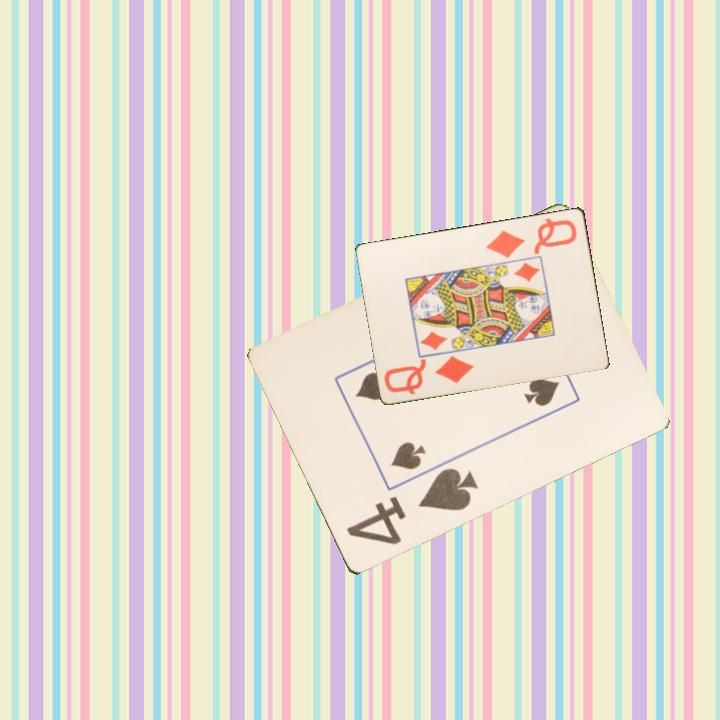4s: (342, 464, 481, 549)
Qd: (483, 214, 580, 260), (379, 352, 477, 397)
